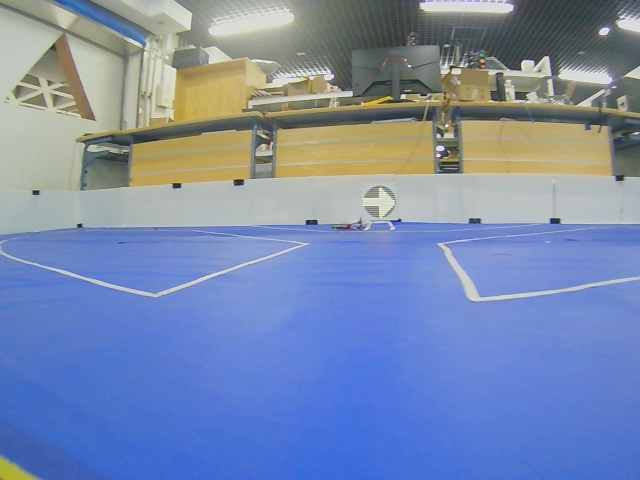right_yellow: (362, 185, 396, 219)
